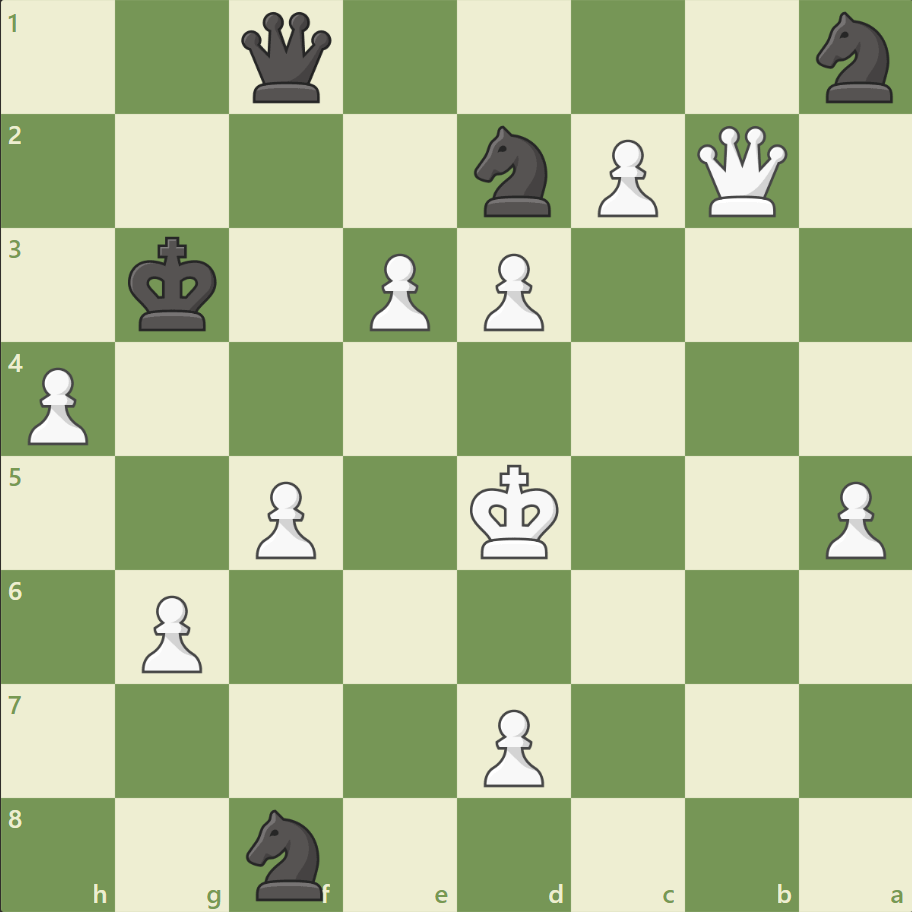K: (465, 458, 565, 566)
P: (474, 700, 549, 791), (133, 586, 208, 677), (247, 473, 322, 564), (20, 359, 95, 450), (474, 246, 549, 337), (815, 473, 889, 564), (361, 246, 435, 337), (588, 132, 662, 223)
Q: (691, 122, 790, 222)
k: (124, 231, 224, 339)
n: (806, 7, 903, 110), (238, 802, 335, 904), (465, 121, 562, 223)
q: (237, 9, 336, 108)
